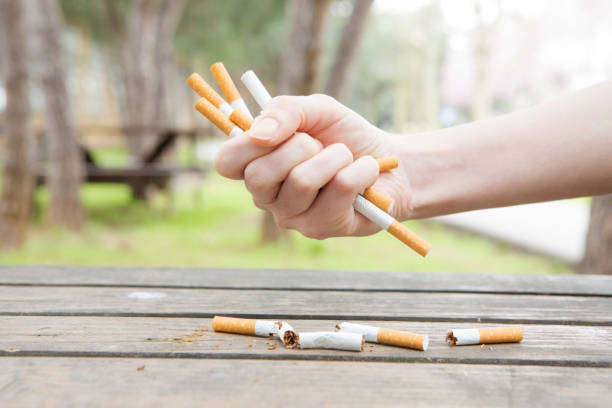cigarette: (352, 194, 435, 259), (335, 321, 430, 352), (209, 61, 254, 119), (186, 72, 231, 116), (194, 97, 244, 136), (444, 326, 524, 347), (212, 315, 280, 338), (297, 331, 367, 352), (240, 69, 272, 111), (361, 187, 397, 214), (273, 319, 300, 351), (229, 108, 255, 128), (375, 155, 399, 173)
